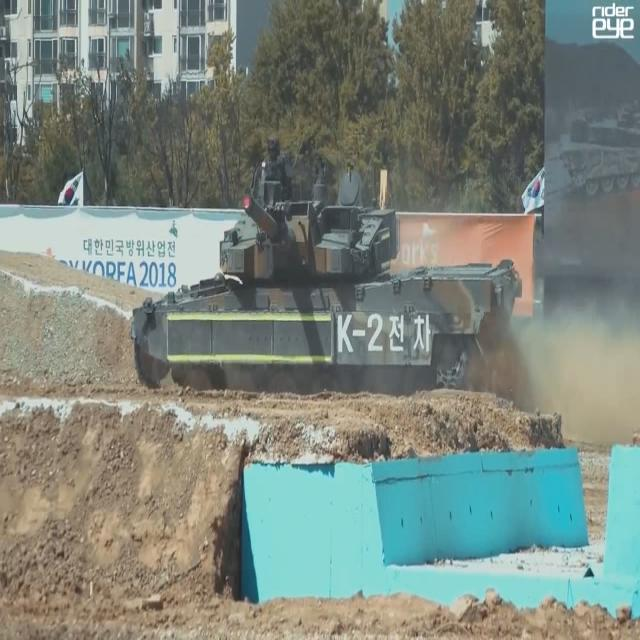korea tank: (129, 133, 521, 407)
